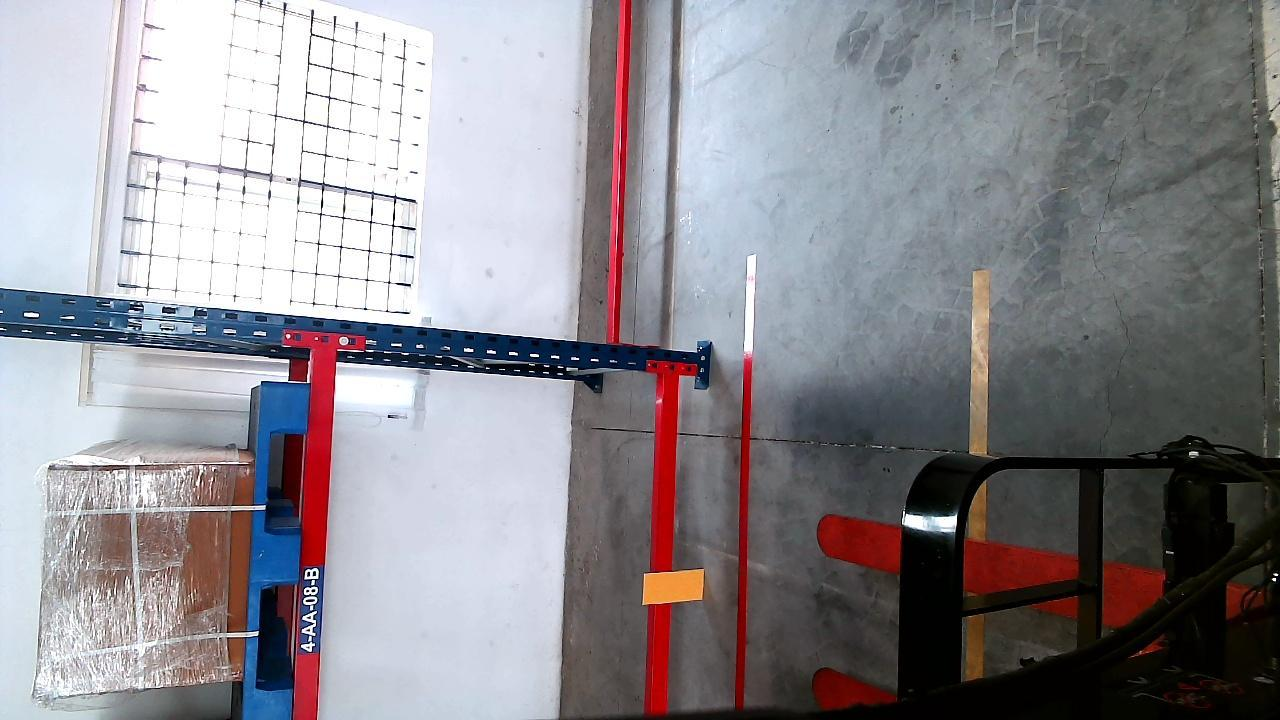red_line: (731, 255, 756, 708)
yellow_line: (963, 272, 987, 682)
